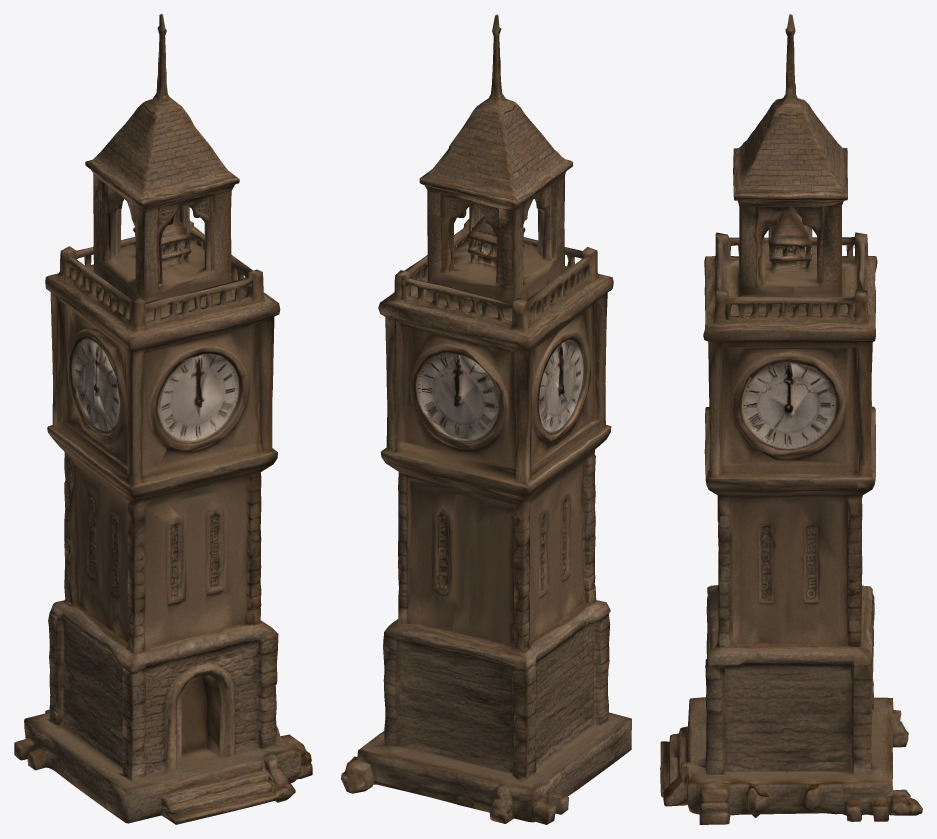
Rendered from ClockTower.glb.
3 renders of one model, left to right at view 1: azimuth 30°, elevation 25°; view 2: azimuth 150°, elevation 25°; view 3: azimuth 270°, elevation 25°, orthographic.
Parts seen in each view (by area): view 1: tripo_node_1e575fb4-5517-4e35-9ddf-e64d7eafbb3d; view 2: tripo_node_1e575fb4-5517-4e35-9ddf-e64d7eafbb3d; view 3: tripo_node_1e575fb4-5517-4e35-9ddf-e64d7eafbb3d.
Part boxes in pixels (x1,y1,x2,y2): tripo_node_1e575fb4-5517-4e35-9ddf-e64d7eafbb3d: (14, 14, 312, 824); tripo_node_1e575fb4-5517-4e35-9ddf-e64d7eafbb3d: (341, 14, 631, 824); tripo_node_1e575fb4-5517-4e35-9ddf-e64d7eafbb3d: (660, 14, 922, 824).
Bounding box in the file's own units: 0.2799 × 0.9781 × 0.3059.
1 material, 1 textured.
